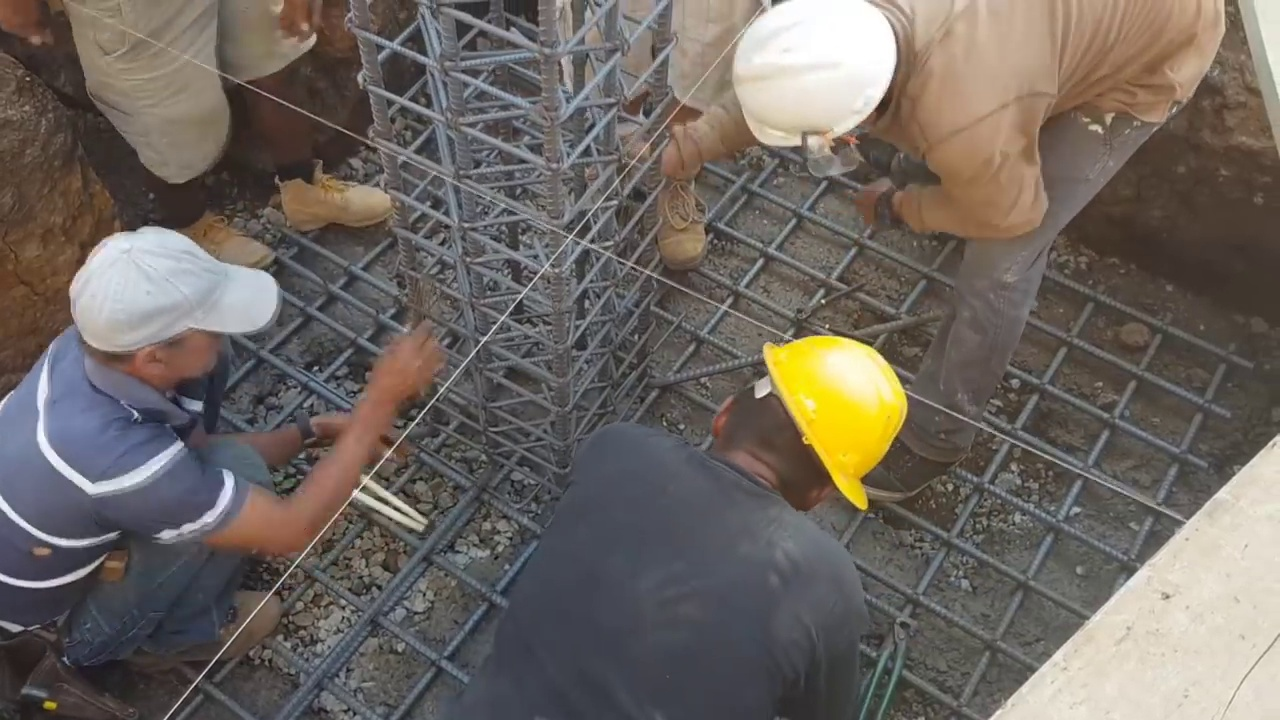helmet: (731, 0, 900, 153), (757, 333, 904, 504)
helmet-off: (69, 224, 281, 404)
helmet-on: (708, 332, 912, 518), (731, 1, 911, 153)
person: (730, 0, 1224, 481), (0, 223, 450, 670), (458, 332, 910, 716), (60, 3, 395, 232), (553, 0, 720, 270)
